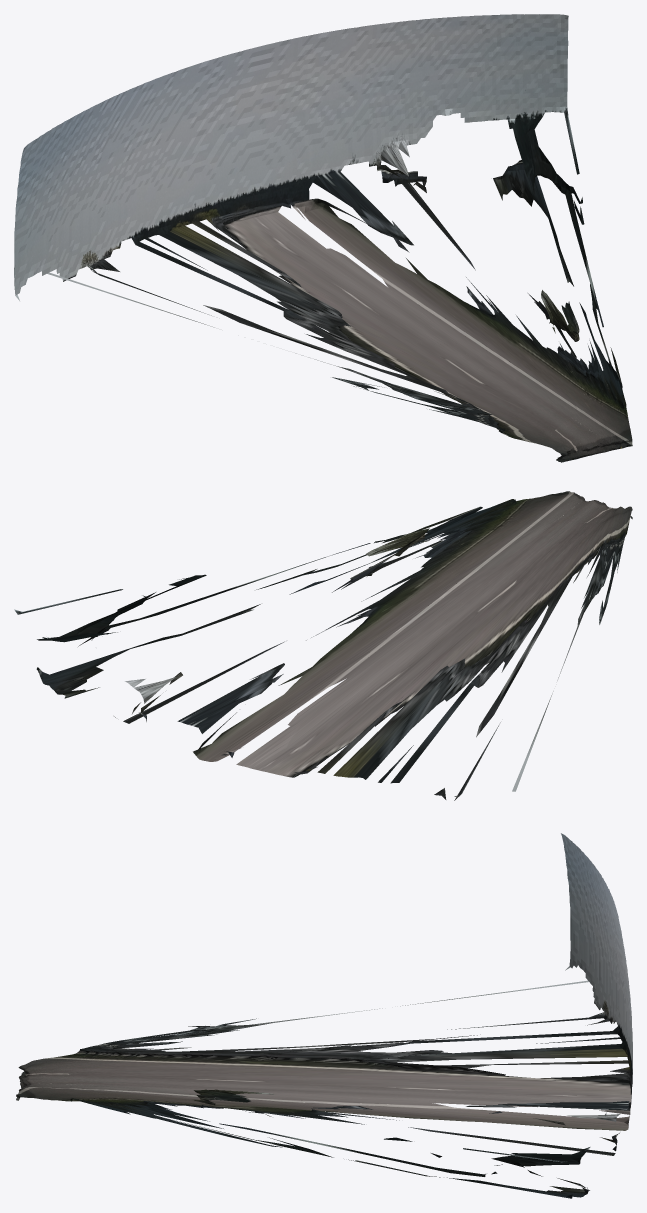
The picture shows the model from 3 angles, top to bottom: view 1: azimuth 30°, elevation 25°; view 2: azimuth 150°, elevation 25°; view 3: azimuth 270°, elevation 25°; orthographic projection. The views are drawn at different scales.
Visible parts, largest first — view 1: defaultobject; view 2: defaultobject; view 3: defaultobject.
Boxes of the visible parts, x1,y1,x2,y2 form: defaultobject: (14, 14, 632, 462); defaultobject: (14, 491, 632, 800); defaultobject: (16, 833, 632, 1198).
Bounding box in the file's own units: 41.12 × 12.84 × 44.48.
1 material, 1 textured.
